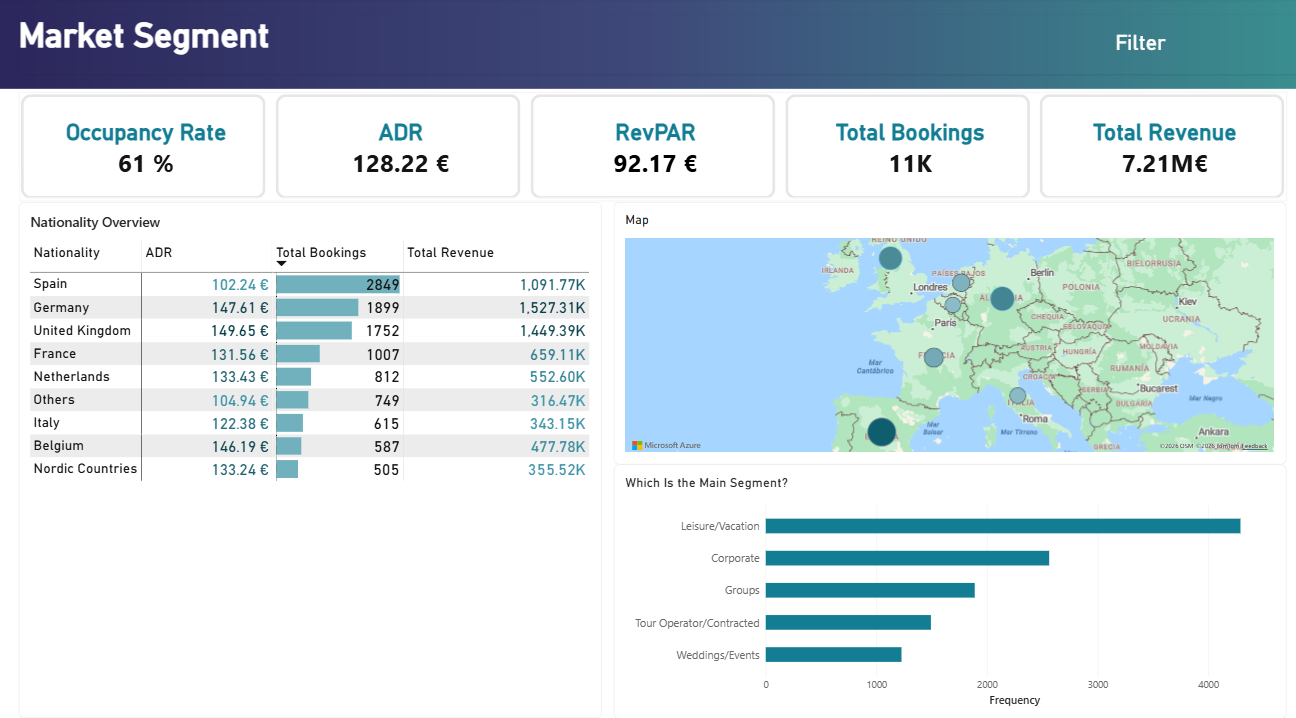

Layout of this report page (visuals, bound fields, positions):
{"tool":"powerbi","page":{"name":"Market Segment","canvas":[1920,1080],"ordinal":3},"visuals":[{"type":"image","box":[0,0,1919,135],"z":0},{"type":"cardVisual","fields":{"Data":["_Measures.Occupancy Promedio","_Measures.ADR promedio","_Measures.RevPAR promedio","_Measures.Total Reservas","_Measures.Ingreso Total"]},"box":[26.9,140.4,1867.3,161.5],"z":1000},{"type":"textbox","box":[27.5,25.5,1893.9,87.8],"z":2000},{"type":"actionButton","box":[1619.6,27.5,119.6,80.4],"z":11000},{"type":"pivotTable","title":"Nationality Overview","fields":{"Rows":["hotel_playa_serena_reservas_LIMPIO_final.Nationality"],"Values":["_Measures.ADR promedio","_Measures.Total Reservas","_Measures.Ingreso Total"]},"box":[28,302,858,760],"z":16000},{"type":"clusteredBarChart","title":"Which Is the Main Segment?","fields":{"Category":["hotel_playa_serena_reservas_LIMPIO_final.Market_Segment"],"Y":["_Measures.Total Reservas"]},"box":[904,688,990,374],"z":17000},{"type":"azureMap","title":"Map","fields":{"Category":["hotel_playa_serena_reservas_LIMPIO_final.Nationality"],"Size":["_Measures.Total Reservas"]},"box":[904,302,990,386],"z":18000}]}

Visuals, with their boxes in screenshot pixels (x1, y1, x2, y2), scaled from the page's 1920x1080 canvas onto the 1296x718 screenshot:
image: <region>0, 0, 1295, 90</region>
cardVisual - _Measures.Occupancy Promedio x _Measures.ADR promedio: <region>18, 93, 1279, 201</region>
textbox: <region>19, 17, 1295, 75</region>
actionButton: <region>1093, 18, 1174, 72</region>
"Nationality Overview" pivotTable: <region>19, 201, 598, 706</region>
"Which Is the Main Segment?" clusteredBarChart: <region>610, 457, 1278, 706</region>
"Map" azureMap: <region>610, 201, 1278, 457</region>
